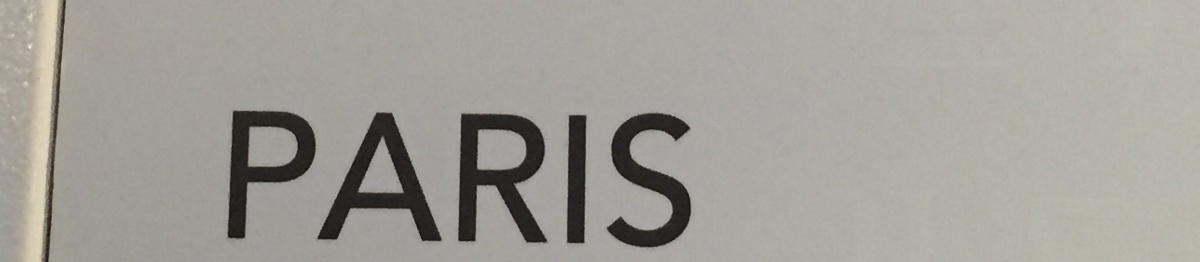text: (241, 110, 256, 249), (257, 110, 272, 249), (273, 110, 288, 249), (289, 110, 304, 249), (305, 110, 320, 249), (321, 110, 336, 249), (337, 110, 352, 249), (353, 110, 368, 249), (369, 110, 384, 249), (385, 110, 400, 249), (401, 110, 416, 249), (417, 110, 432, 249), (433, 110, 448, 249), (449, 110, 464, 249), (465, 110, 480, 249), (481, 110, 496, 249), (497, 110, 512, 249), (513, 110, 528, 249), (529, 110, 544, 249), (545, 110, 560, 249), (561, 110, 576, 249), (577, 110, 592, 249), (593, 110, 608, 249), (609, 110, 624, 249), (625, 110, 640, 249), (641, 110, 656, 249), (657, 110, 672, 249), (673, 110, 688, 249), (232, 110, 240, 249), (689, 110, 692, 249)
